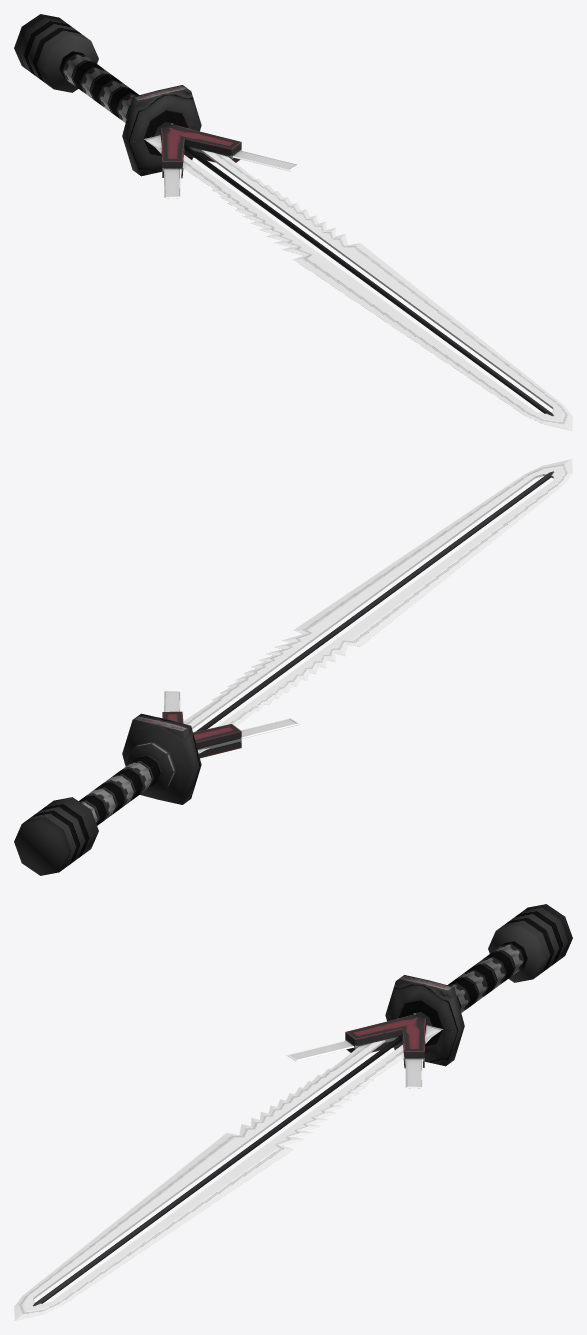
Rendered from SwordV_short.fbx.
3 views of the same model, one above another, from view 1: azimuth 30°, elevation 25°; view 2: azimuth 150°, elevation 25°; view 3: azimuth 330°, elevation 25° (orthographic).
Parts seen in each view (by area): view 1: vSword_short; view 2: vSword_short; view 3: vSword_short.
Boxes of the visible parts, x1,y1,x2,y2 form: vSword_short: (14,14,572,430); vSword_short: (14,459,572,875); vSword_short: (14,904,572,1320).
Size of the model in its own units: 12.58 by 6.55 by 85.11.
2 materials, 2 textured.
